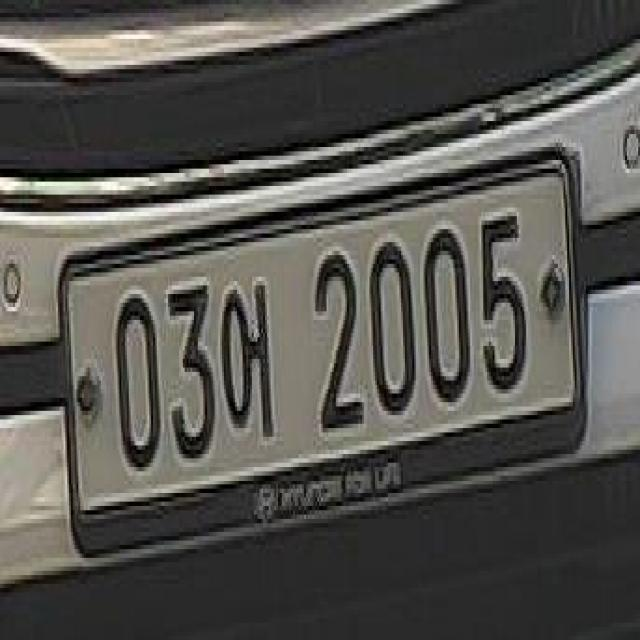illegal_plate: (62, 150, 591, 564)
